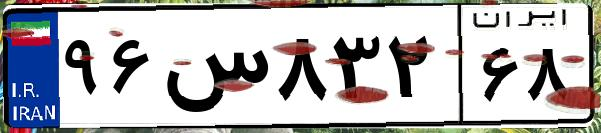2: (385, 28, 445, 110)
3: (330, 28, 385, 110)
6: (475, 38, 525, 113), (110, 28, 158, 98)
8: (270, 28, 330, 110), (525, 38, 570, 115)
9: (57, 26, 110, 100)
س: (158, 20, 270, 120)
